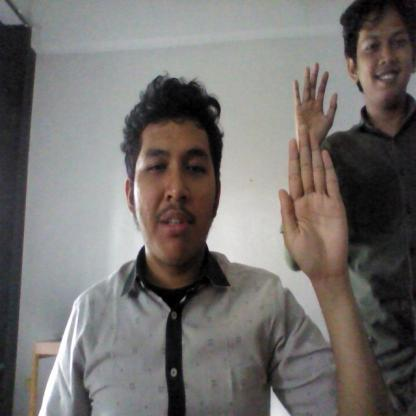Halo: (268, 115, 355, 299)
